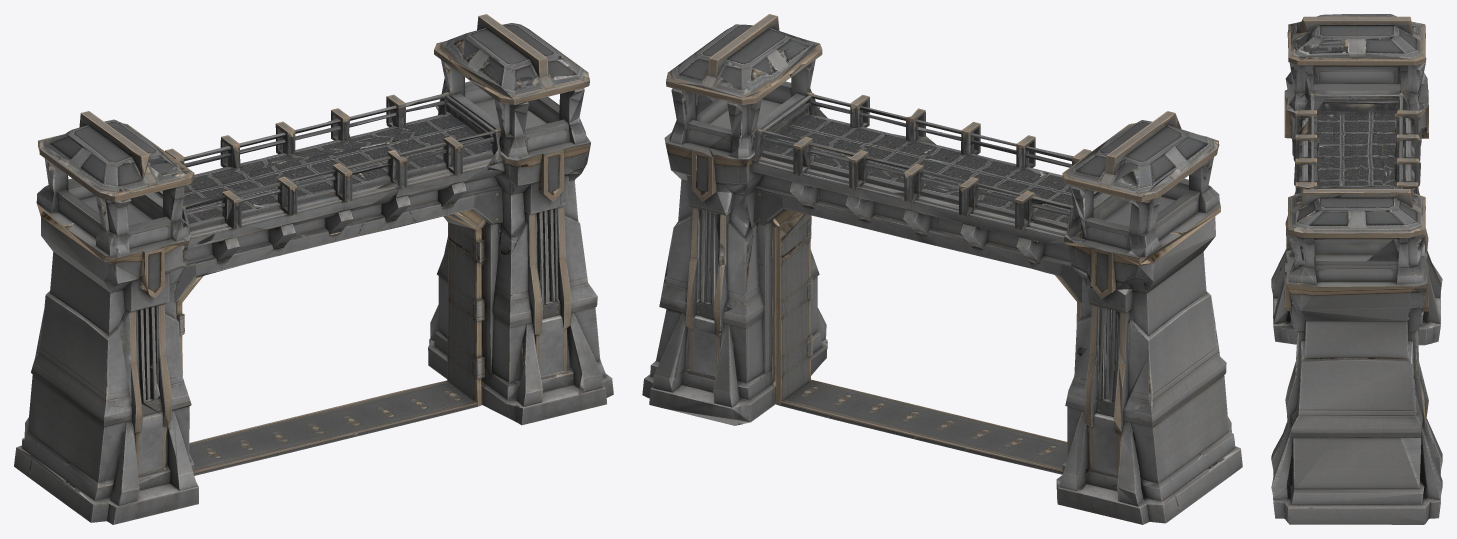
Rendered from imperial_city_gate_lod1.glb.
3 renders of one model, left to right at view 1: azimuth 30°, elevation 25°; view 2: azimuth 150°, elevation 25°; view 3: azimuth 270°, elevation 25°, orthographic. The views are drawn at different scales.
Parts seen in each view (by area): view 1: mesh_node; view 2: mesh_node; view 3: mesh_node.
Part boxes in pixels (x1=…): mesh_node: x1=14, y1=14, x2=613, y2=524; mesh_node: x1=642, y1=14, x2=1242, y2=524; mesh_node: x1=1271, y1=14, x2=1442, y2=524.
Size of the model in its own units: 12.54 by 7.92 by 4.01.
1 material, 1 textured.
